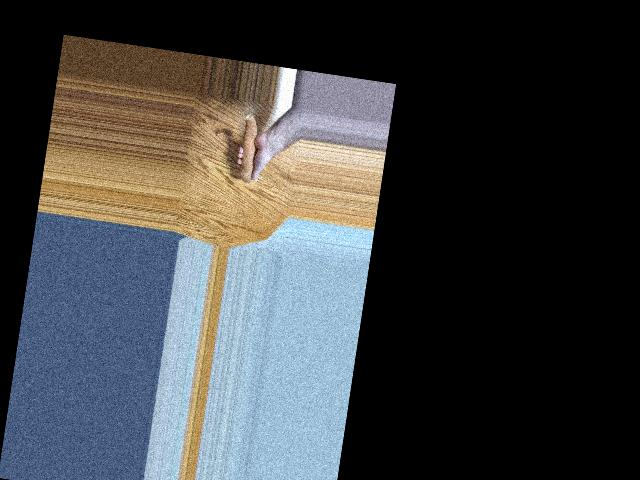sweet_potato: (237, 113, 267, 181)
